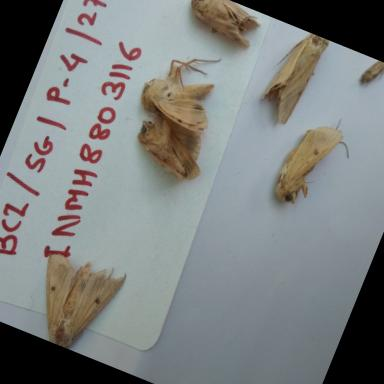abw: (5, 239, 130, 358), (262, 104, 360, 220), (132, 31, 236, 137), (248, 22, 332, 132), (122, 114, 214, 189), (170, 0, 267, 60)
